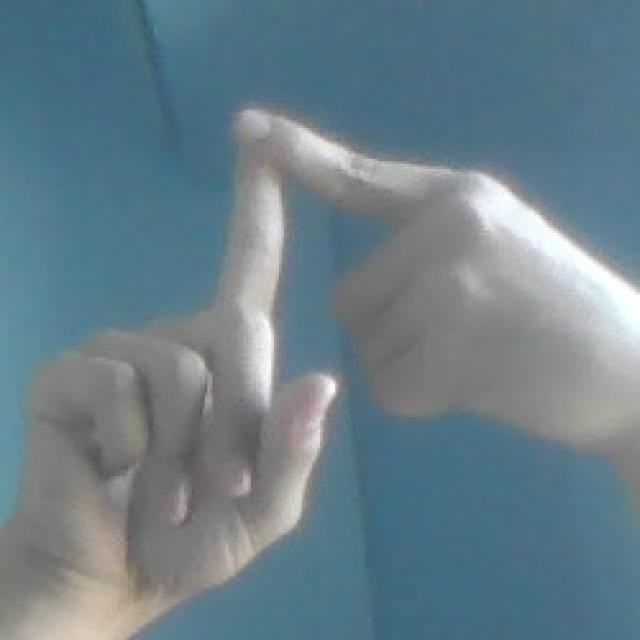Alphabet-E: (0, 110, 640, 640)
